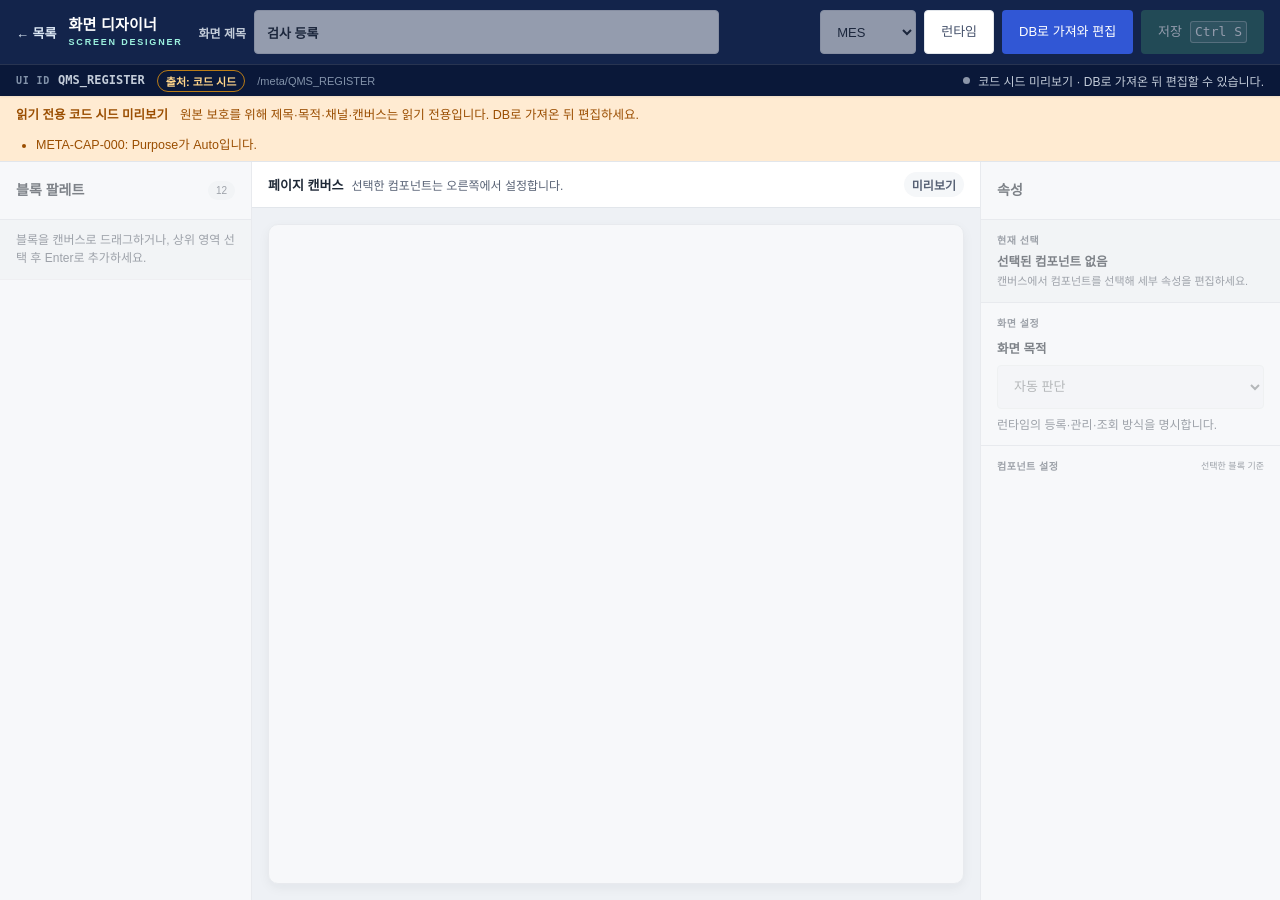
ScreenEditor 화면 목적 속성 › 코드 시드는 원본 JSON을 미리 보되 모든 편집을 잠그고 가져온 뒤에만 편집을 허용
Expected: the text "읽기 전용 코드 시드 미리보기" is shown, [16, 104, 168, 123]
Expected: the text "출처: 코드 시드" is shown, [157, 70, 245, 92]
Click the button "DB로 가져와 편집": [1068, 32] box [1002, 10, 1133, 54]
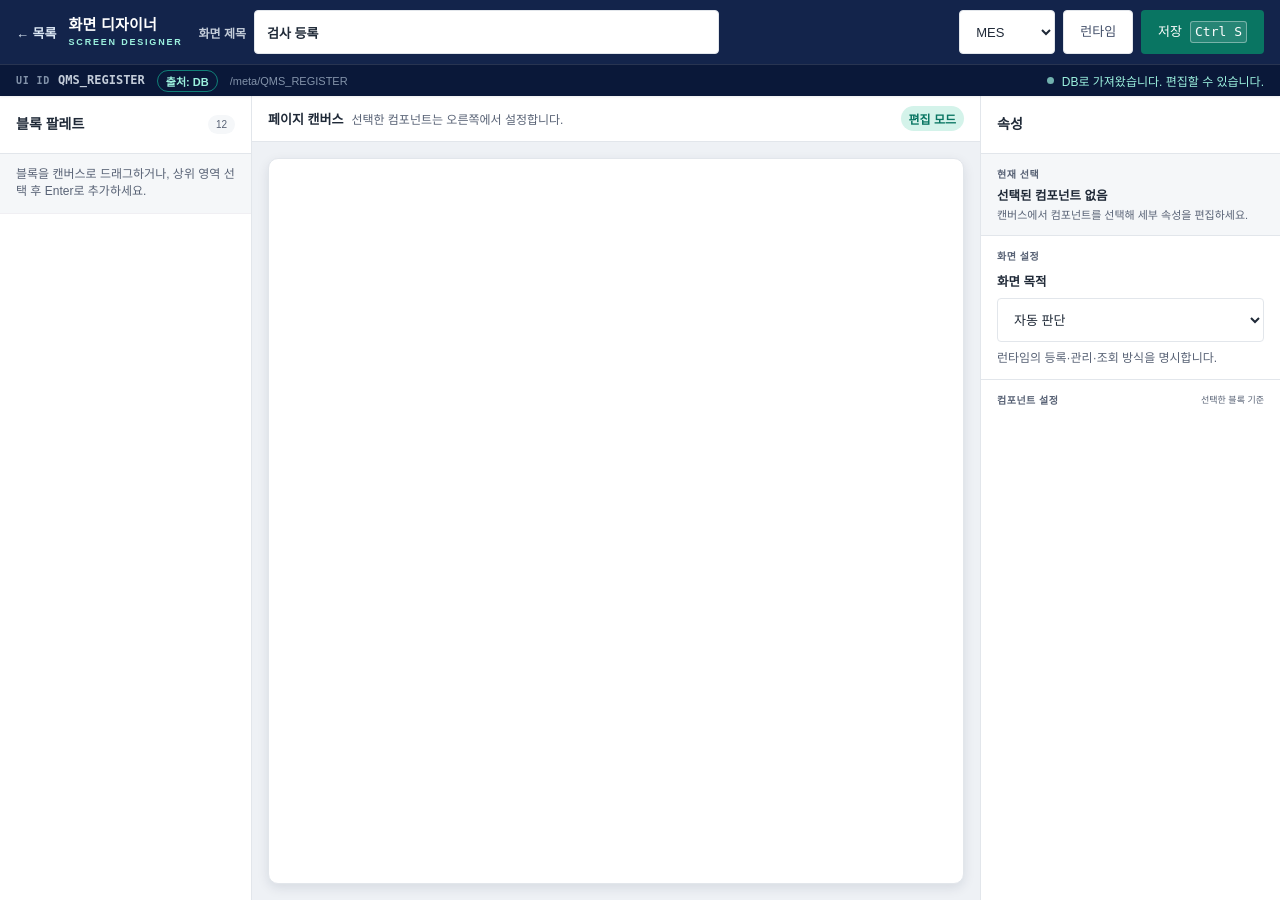
Result: the text "출처: DB" is shown at [157, 70, 218, 92]
Result: the field labelled "화면 제목" is enabled at [254, 10, 719, 54]
Result: the dropdown labelled "화면 목적" is enabled at [997, 298, 1264, 342]
